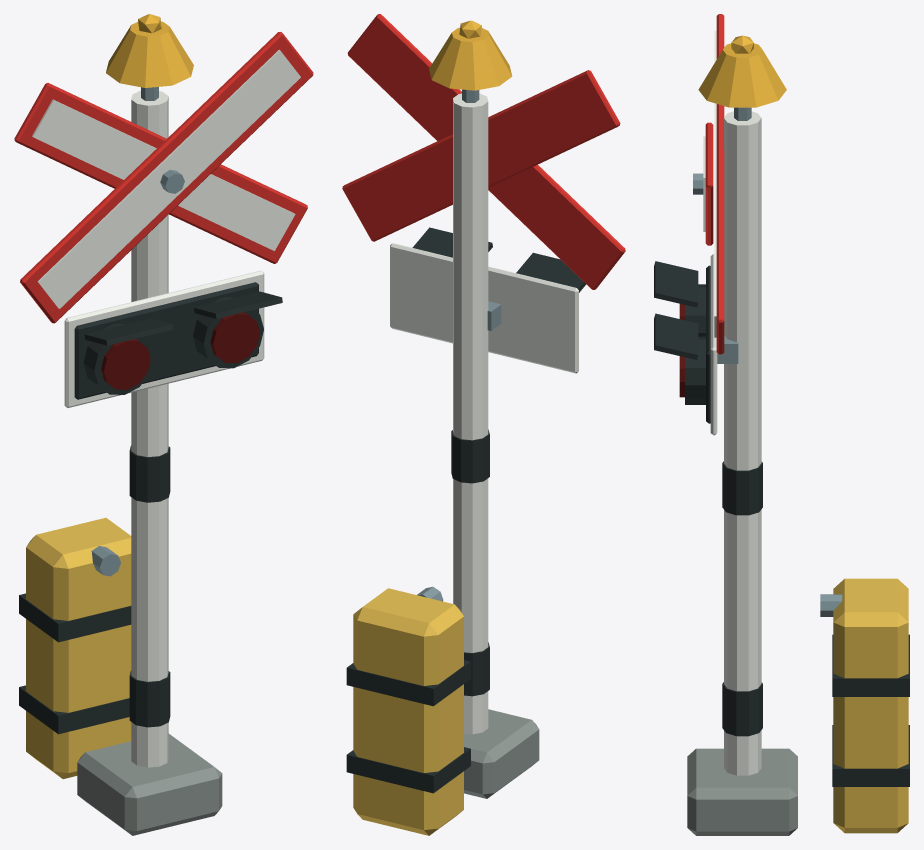
The model's file is sm_env_rail_crossing_signal.glb.
3 views of the same model, side by side, from view 1: azimuth 30°, elevation 25°; view 2: azimuth 150°, elevation 25°; view 3: azimuth 270°, elevation 25° (orthographic). The views are drawn at different scales.
Parts seen in each view (by area): view 1: BarrierCabinet, Post, Crossbuck.001, PostBase, Crossbuck, CrossbuckEdge.001, CrossbuckEdge, LampBoard, LampBoardRim, Bell, CabinetStripe.001, CabinetStripe (+9 smaller); view 2: BarrierCabinet, Post, CrossbuckEdge, CrossbuckEdge.001, LampBoardRim, PostBase, Bell, CabinetStripe.001, CabinetStripe, PostBand.001, LampHood, PostBand (+1 smaller); view 3: Post, BarrierCabinet, PostBase, Bell, CrossbuckEdge, PostBand, PostBand.001, CabinetStripe.001, CabinetStripe, LampHood.001, LampHood, LampBoardRim (+5 smaller).
Part boxes in pixels (x1,y1,x2,y2): BarrierCabinet: (26, 517, 131, 778); Post: (131, 90, 168, 767); Crossbuck.001: (37, 49, 300, 308); PostBase: (77, 733, 222, 835); Crossbuck: (32, 99, 295, 250); CrossbuckEdge.001: (20, 32, 313, 323); CrossbuckEdge: (14, 83, 307, 263); LampBoard: (74, 282, 258, 399); LampBoardRim: (64, 270, 264, 407); Bell: (106, 21, 193, 87); CabinetStripe.001: (19, 593, 131, 642); CabinetStripe: (19, 685, 129, 734); BarrierCabinet: (353, 588, 463, 835); Post: (453, 93, 488, 734); CrossbuckEdge: (342, 70, 620, 241); CrossbuckEdge.001: (347, 14, 625, 289); LampBoardRim: (390, 243, 578, 373); PostBase: (464, 709, 539, 798); Bell: (429, 27, 512, 90); CabinetStripe.001: (346, 660, 470, 706); CabinetStripe: (346, 747, 470, 793); PostBand.001: (451, 429, 489, 483); LampHood: (516, 252, 586, 292); PostBand: (464, 642, 489, 696); Post: (724, 111, 761, 775); BarrierCabinet: (833, 578, 908, 833); PostBase: (687, 748, 797, 835); Bell: (698, 43, 786, 107); CrossbuckEdge: (716, 14, 724, 354); PostBand: (722, 682, 762, 736); PostBand.001: (722, 461, 762, 515); CabinetStripe.001: (832, 634, 909, 696); CabinetStripe: (832, 725, 909, 786); LampHood.001: (654, 313, 698, 359); LampHood: (654, 261, 698, 307); LampBoardRim: (710, 254, 717, 435).
Bounding box in the file's own units: 1.5 × 3.89 × 1.15.
